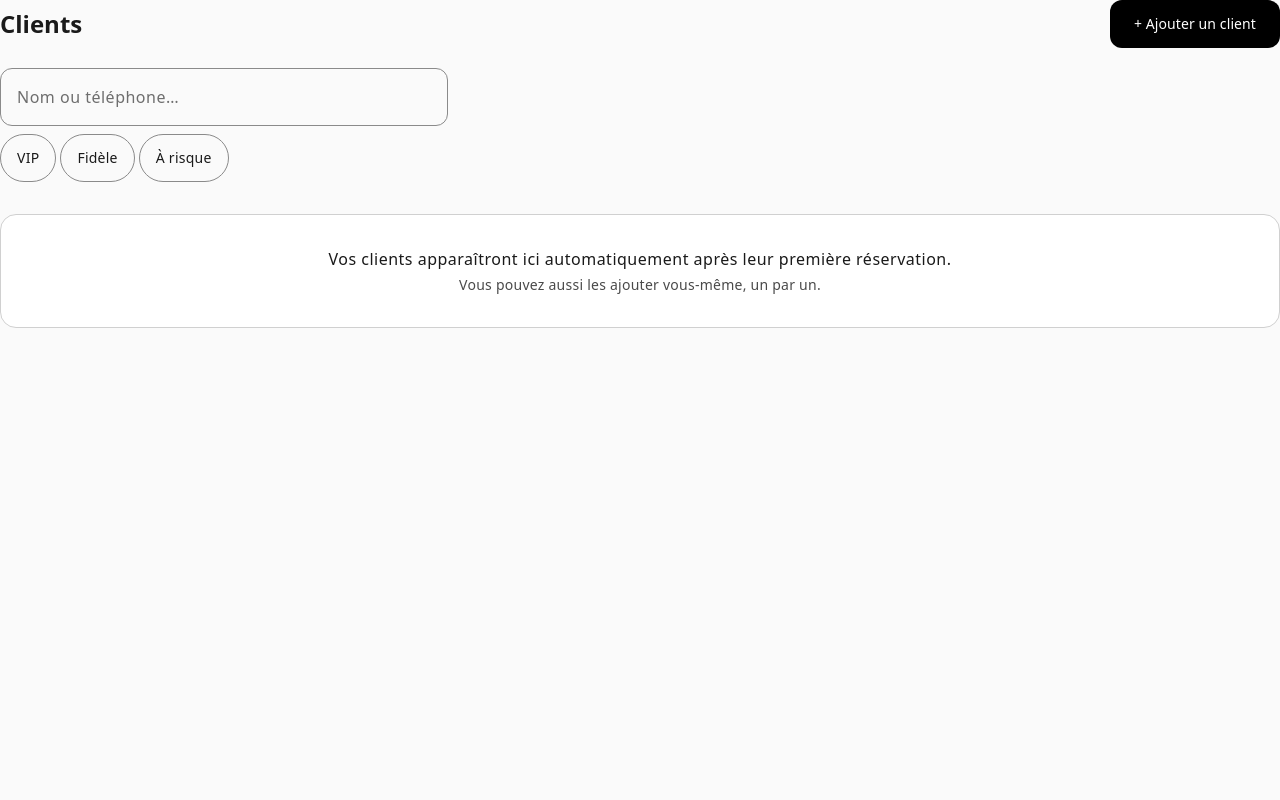
Test: ClientsClient — « Ajouter un client » checks the phone › an empty phone asks for one — the button is not a silent dead end
Click the button "+ Ajouter un client": (1195, 24) [1110,0,1279,48]
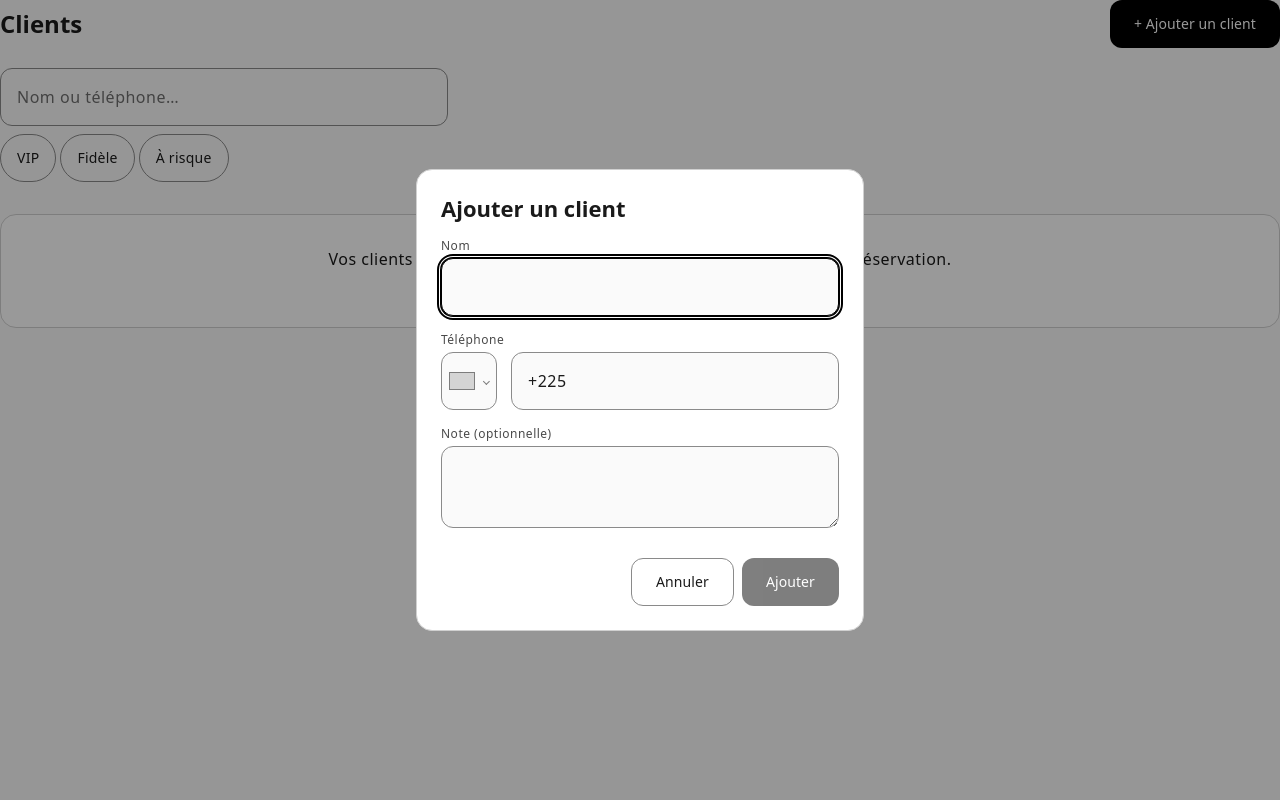
In the field labelled "Nom": (640, 287) [441,258,839,316], type "Awa"
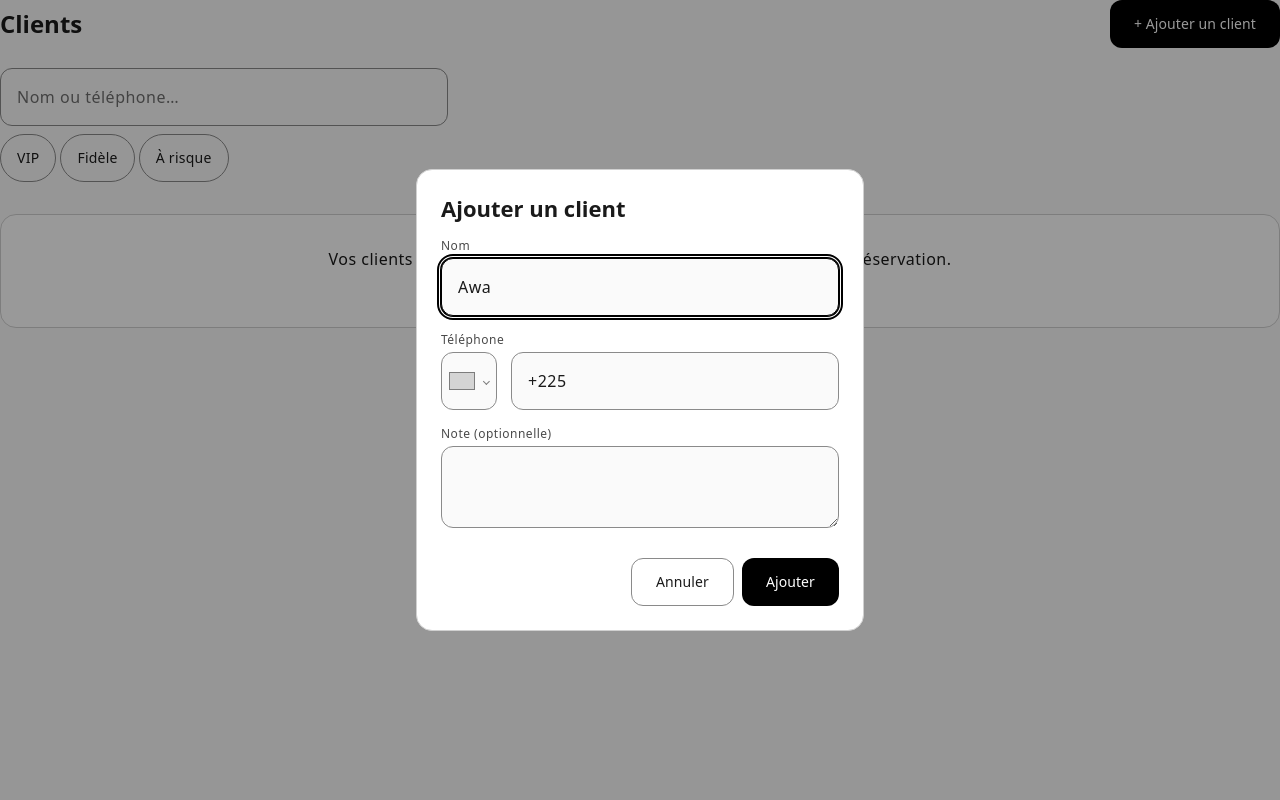
Check: the button "Ajouter" is enabled
Click the button "Ajouter": (790, 582) [742,558,839,606]
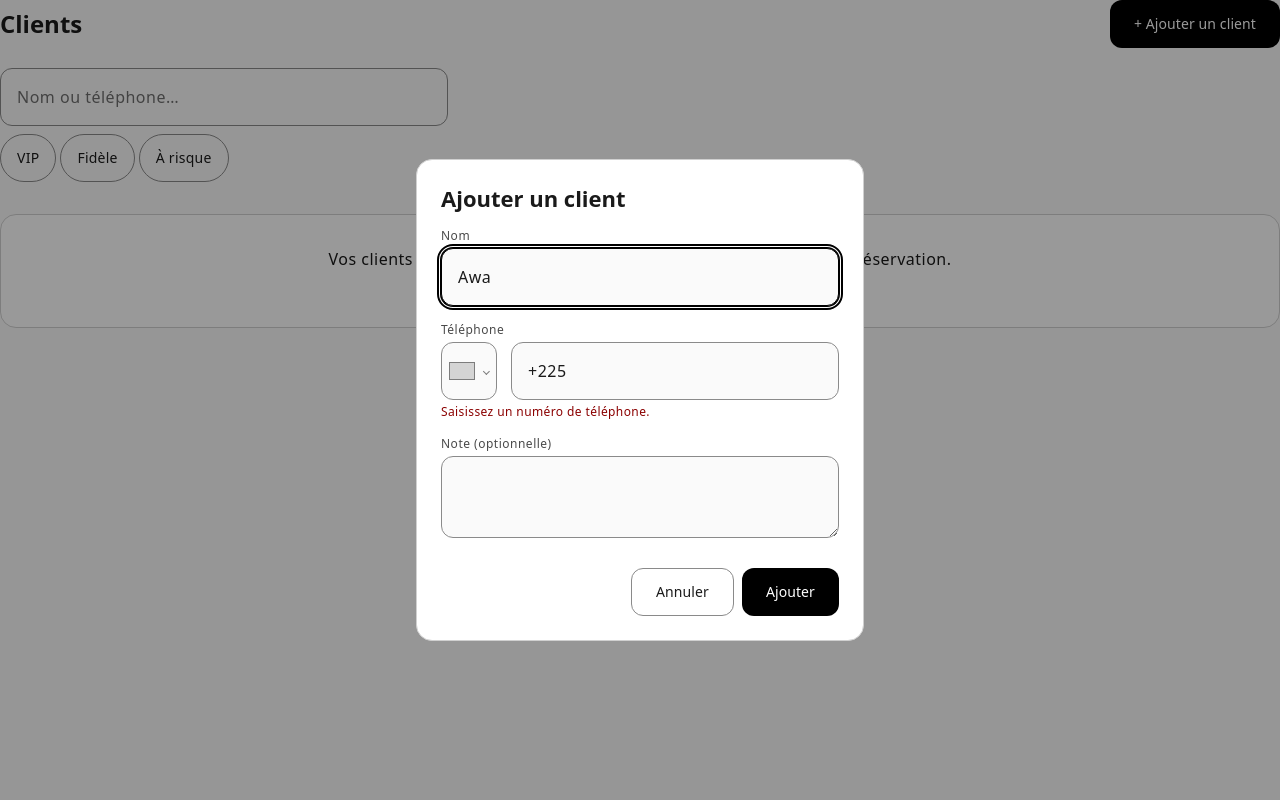
Check: the message reads "Saisissez un numéro de téléphone.", box [441,403,650,420]
